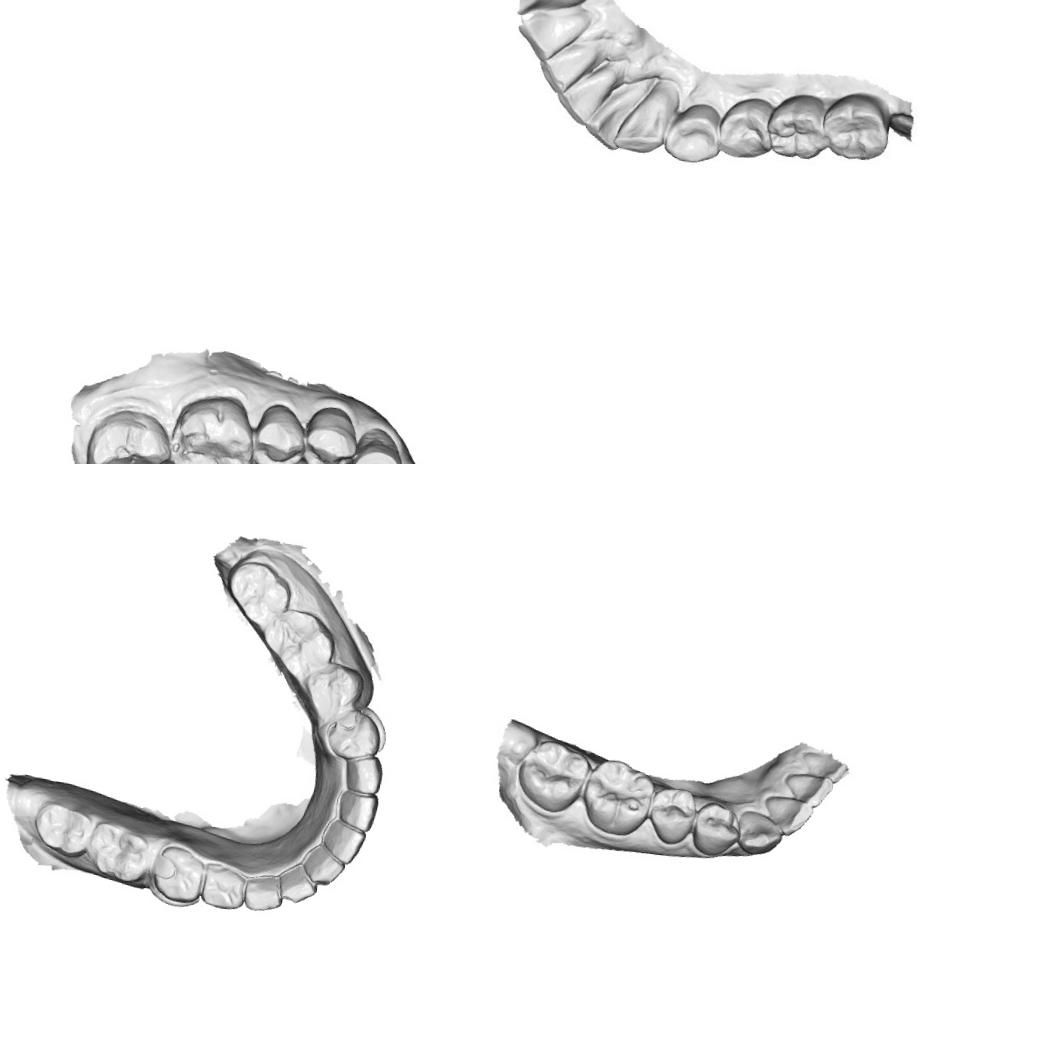canine: (615, 76, 676, 152), (734, 808, 784, 858), (342, 429, 408, 464), (340, 751, 386, 797), (240, 870, 286, 915)
incisor: (584, 71, 656, 146), (513, 0, 589, 61), (554, 57, 622, 125), (539, 35, 601, 96), (317, 813, 369, 868), (758, 794, 816, 840), (298, 839, 348, 890), (332, 786, 381, 834), (780, 770, 835, 811), (276, 858, 321, 906), (797, 748, 852, 786)
molar: (165, 386, 261, 464), (577, 754, 659, 840), (512, 734, 594, 818), (257, 604, 340, 683), (77, 402, 182, 464), (222, 558, 296, 630), (822, 92, 893, 166), (81, 818, 155, 886), (766, 94, 833, 163), (29, 798, 97, 860)
premolar: (298, 658, 367, 725), (147, 842, 208, 908), (661, 102, 723, 164), (251, 400, 310, 464), (645, 784, 700, 850), (300, 403, 358, 464), (323, 707, 384, 764), (688, 798, 745, 859), (718, 96, 773, 158), (198, 858, 249, 912)
